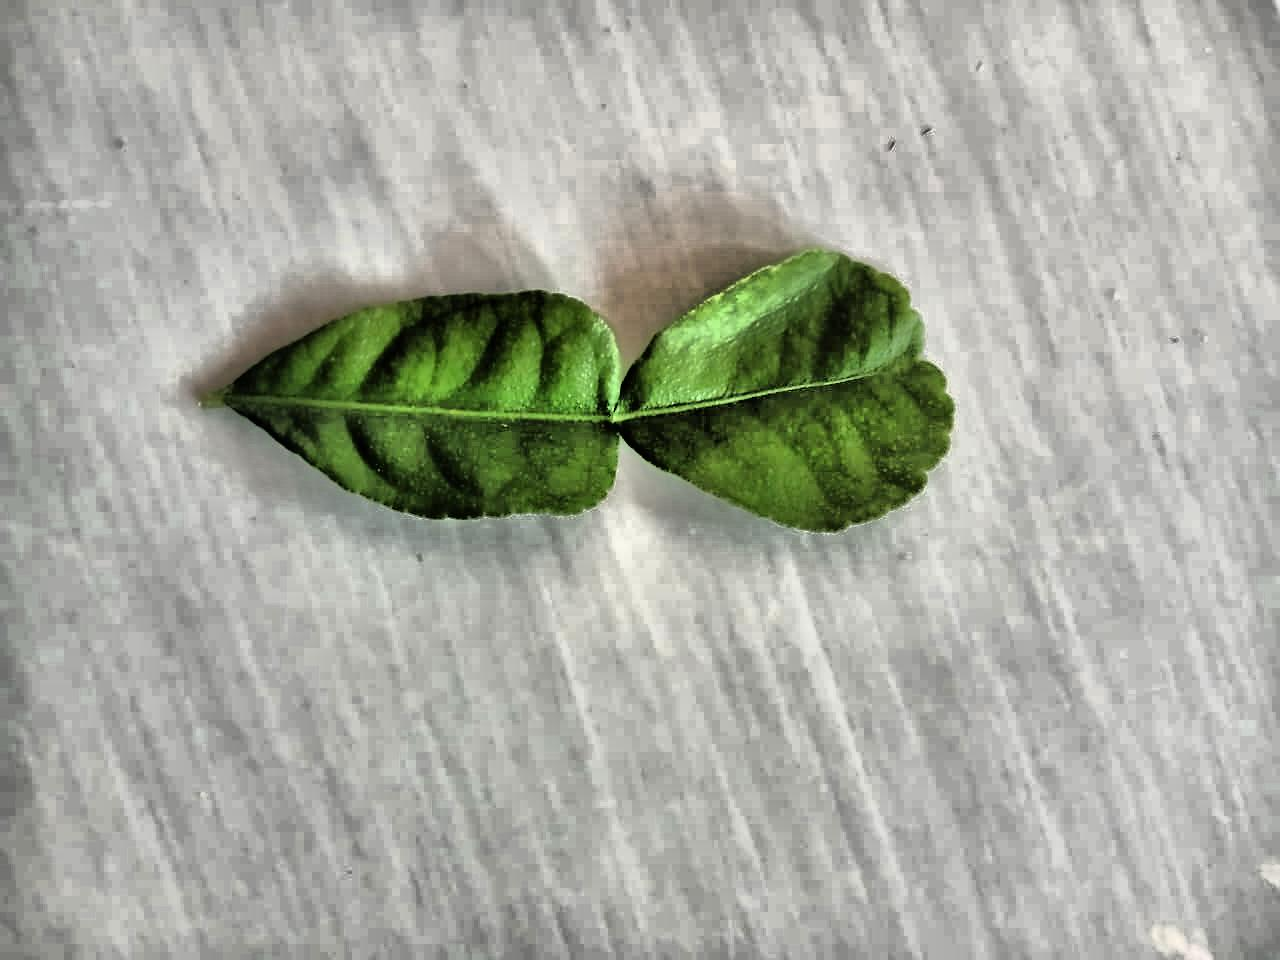daun jeruk: (201, 249, 953, 531)
